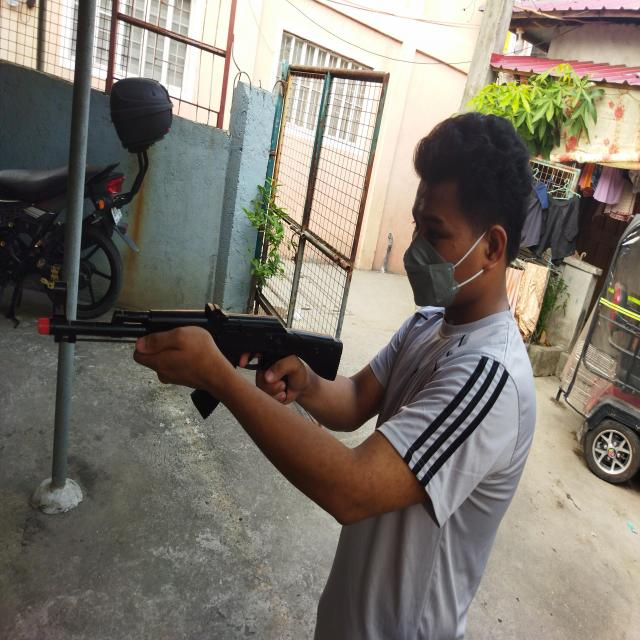rifle: (39, 284, 343, 418)
